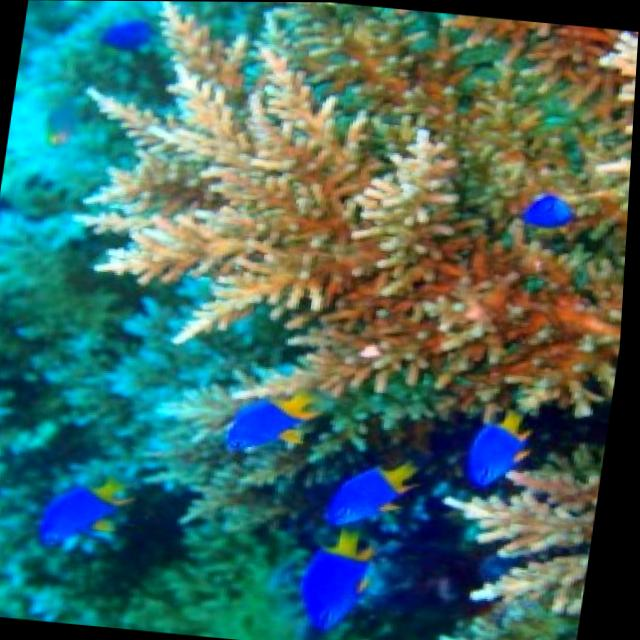Healthy Coral: (15, 0, 640, 541)
